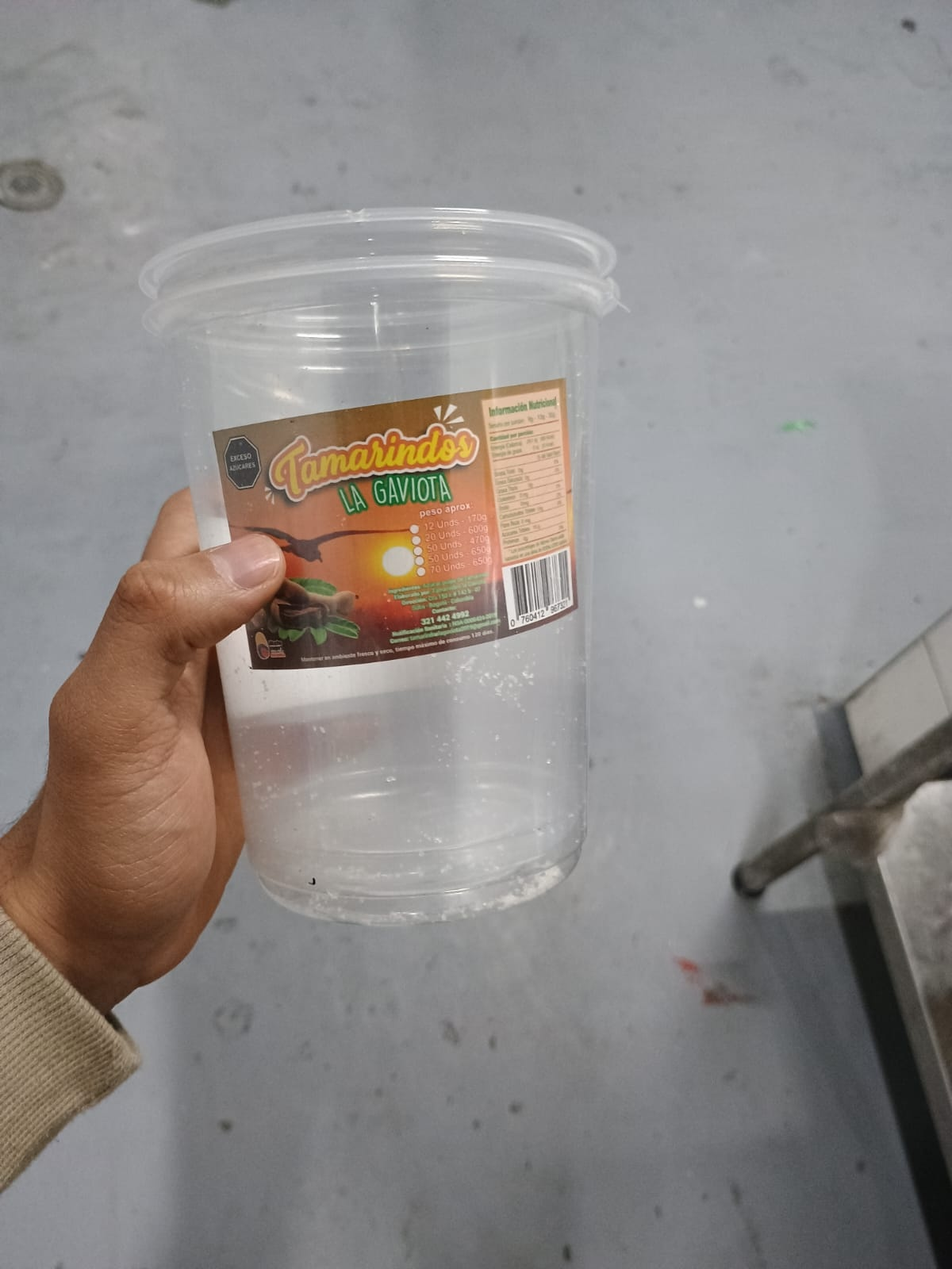Plastico: (138, 207, 621, 927)
